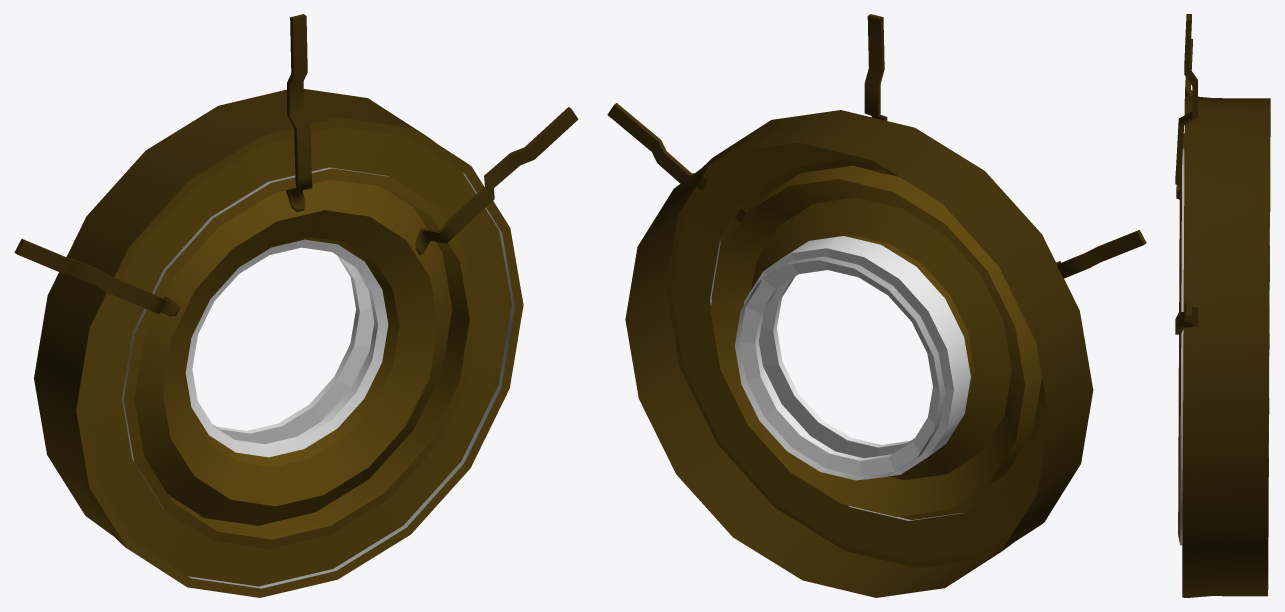
File: CircleDoor.fbx
The picture shows the model from 3 angles, left to right: view 1: azimuth 30°, elevation 25°; view 2: azimuth 150°, elevation 25°; view 3: azimuth 270°, elevation 25°; orthographic projection. The views are drawn at different scales.
Visible parts, largest first — view 1: pasted__pCylinder5, pasted__pCube4, pasted__pCube2, pasted__pCube3; view 2: pasted__pCylinder5, pasted__pCube4, pasted__pCube2, pasted__pCube3; view 3: pasted__pCylinder5, pasted__pCube2, pasted__pCube4, pasted__pCube3.
Boxes of the visible parts, x1,y1,x2,y2 form: pasted__pCylinder5: (34, 89, 523, 597); pasted__pCube4: (415, 107, 578, 255); pasted__pCube2: (286, 14, 312, 212); pasted__pCube3: (14, 239, 179, 316); pasted__pCylinder5: (625, 110, 1093, 597); pasted__pCube4: (607, 103, 764, 243); pasted__pCube2: (864, 14, 887, 174); pasted__pCube3: (1056, 230, 1146, 278); pasted__pCylinder5: (1178, 96, 1270, 597); pasted__pCube2: (1175, 14, 1197, 185); pasted__pCube4: (1175, 300, 1197, 334); pasted__pCube3: (1176, 39, 1192, 199).
Bounding box in the file's own units: 21.02 × 20.39 × 3.17.
